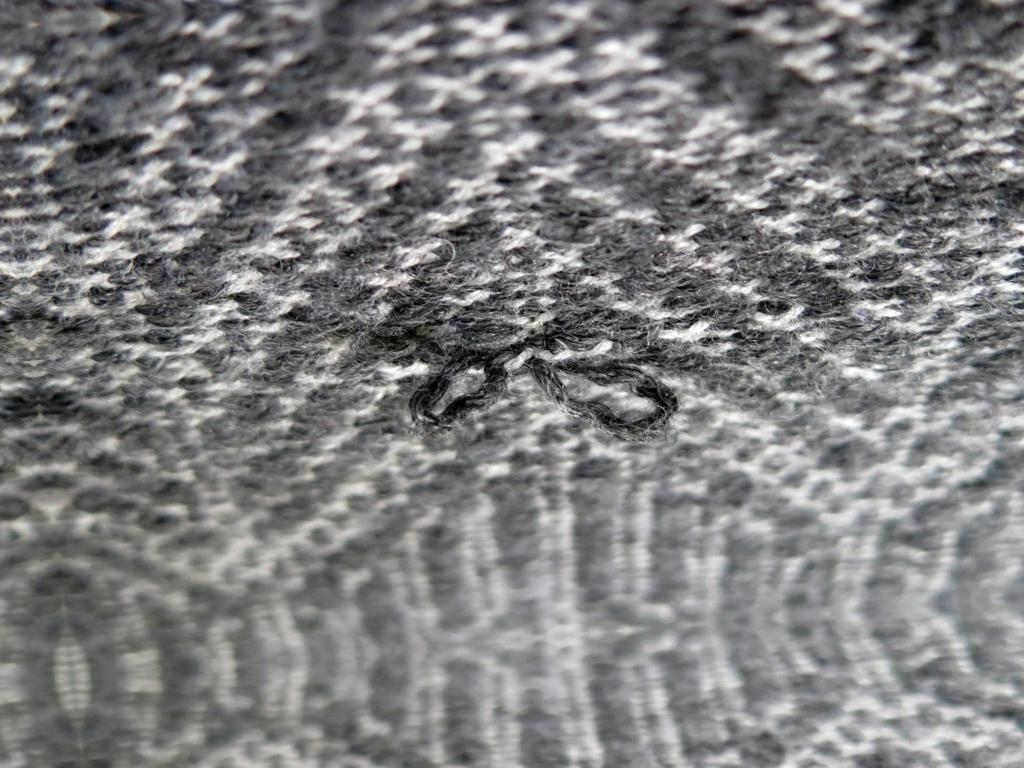snag: (526, 344, 709, 453), (406, 343, 521, 434)
